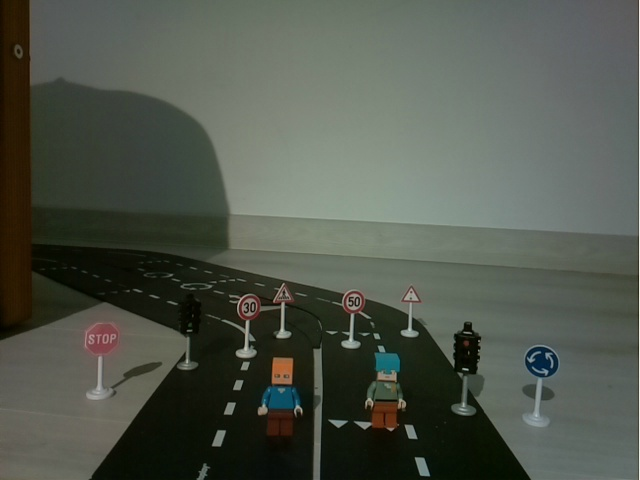green light: (167, 288, 206, 373)
limit 30: (230, 291, 262, 362)
limit 50: (333, 288, 371, 352)
pedestrian sign: (271, 278, 298, 342)
person: (264, 354, 309, 441)
red light: (446, 316, 487, 420)
round: (512, 337, 564, 436)
second person: (364, 352, 409, 435)
stop: (70, 314, 129, 405)
traffic light sign: (396, 282, 426, 340)
